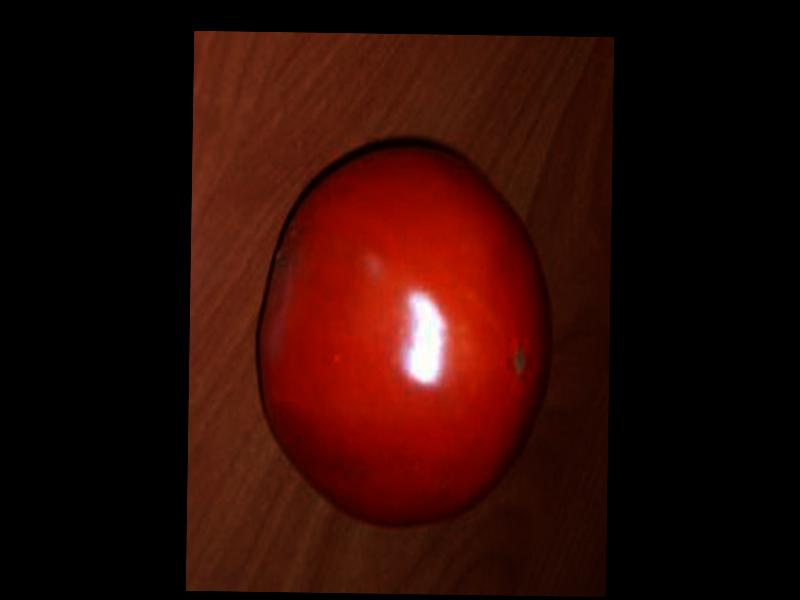Tomato: (256, 137, 556, 533)
